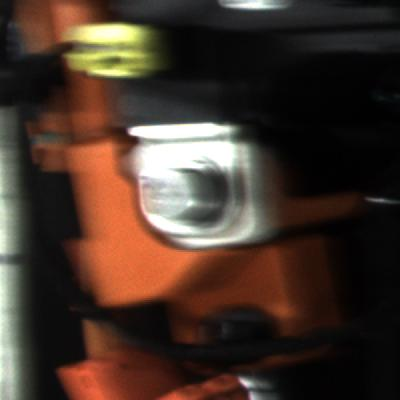nut_b: (134, 151, 224, 235)
